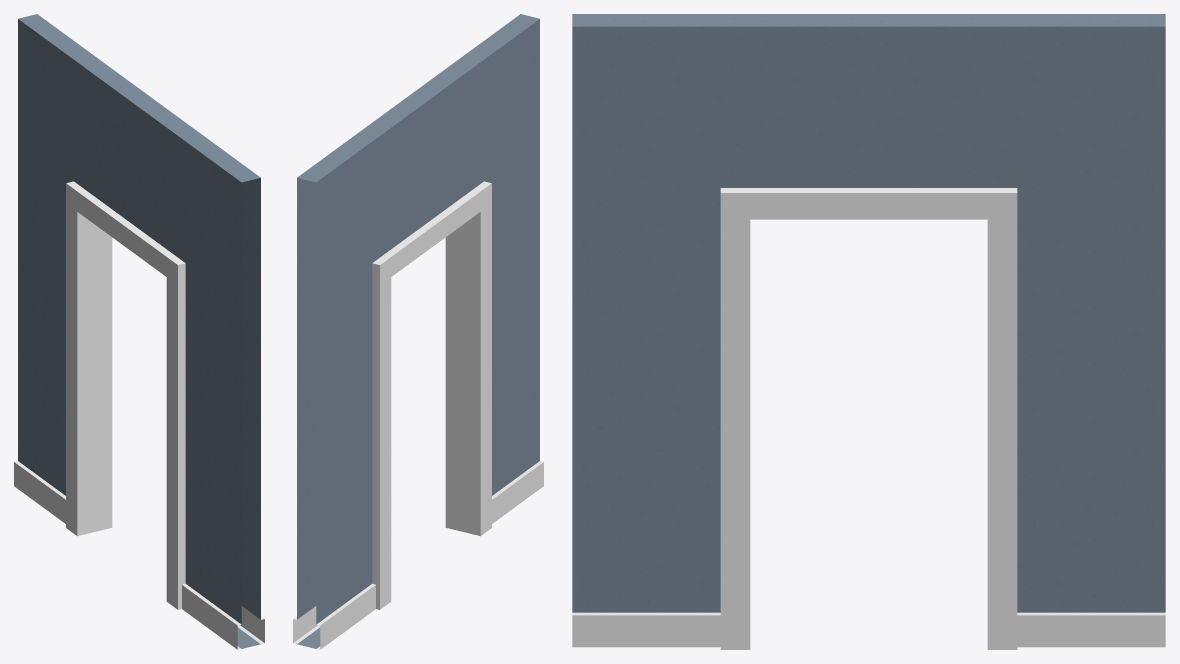
File: SM_Bld_House_Doorway_01b.obj
3 views of the same model, side by side, from view 1: azimuth 30°, elevation 25°; view 2: azimuth 150°, elevation 25°; view 3: azimuth 270°, elevation 25° (orthographic). The views are drawn at different scales.
Parts seen in each view (by area): view 1: SM_Bld_House_Doorway_01b_mi_HouseInteriorWalls_02, SM_Bld_House_Doorway_01b_mi_WhiteTrim; view 2: SM_Bld_House_Doorway_01b_mi_HouseInteriorWalls_02, SM_Bld_House_Doorway_01b_mi_WhiteTrim; view 3: SM_Bld_House_Doorway_01b_mi_HouseInteriorWalls_02, SM_Bld_House_Doorway_01b_mi_WhiteTrim.
Part boxes in pixels (bbox=[...]): SM_Bld_House_Doorway_01b_mi_HouseInteriorWalls_02: bbox=[18, 14, 260, 648]; SM_Bld_House_Doorway_01b_mi_WhiteTrim: bbox=[14, 181, 264, 649]; SM_Bld_House_Doorway_01b_mi_HouseInteriorWalls_02: bbox=[297, 14, 539, 648]; SM_Bld_House_Doorway_01b_mi_WhiteTrim: bbox=[293, 181, 543, 649]; SM_Bld_House_Doorway_01b_mi_HouseInteriorWalls_02: bbox=[572, 14, 1165, 612]; SM_Bld_House_Doorway_01b_mi_WhiteTrim: bbox=[572, 188, 1165, 649].
Bounding box in the file's own units: 0.45 × 5.75 × 5.
2 materials, 1 textured.
